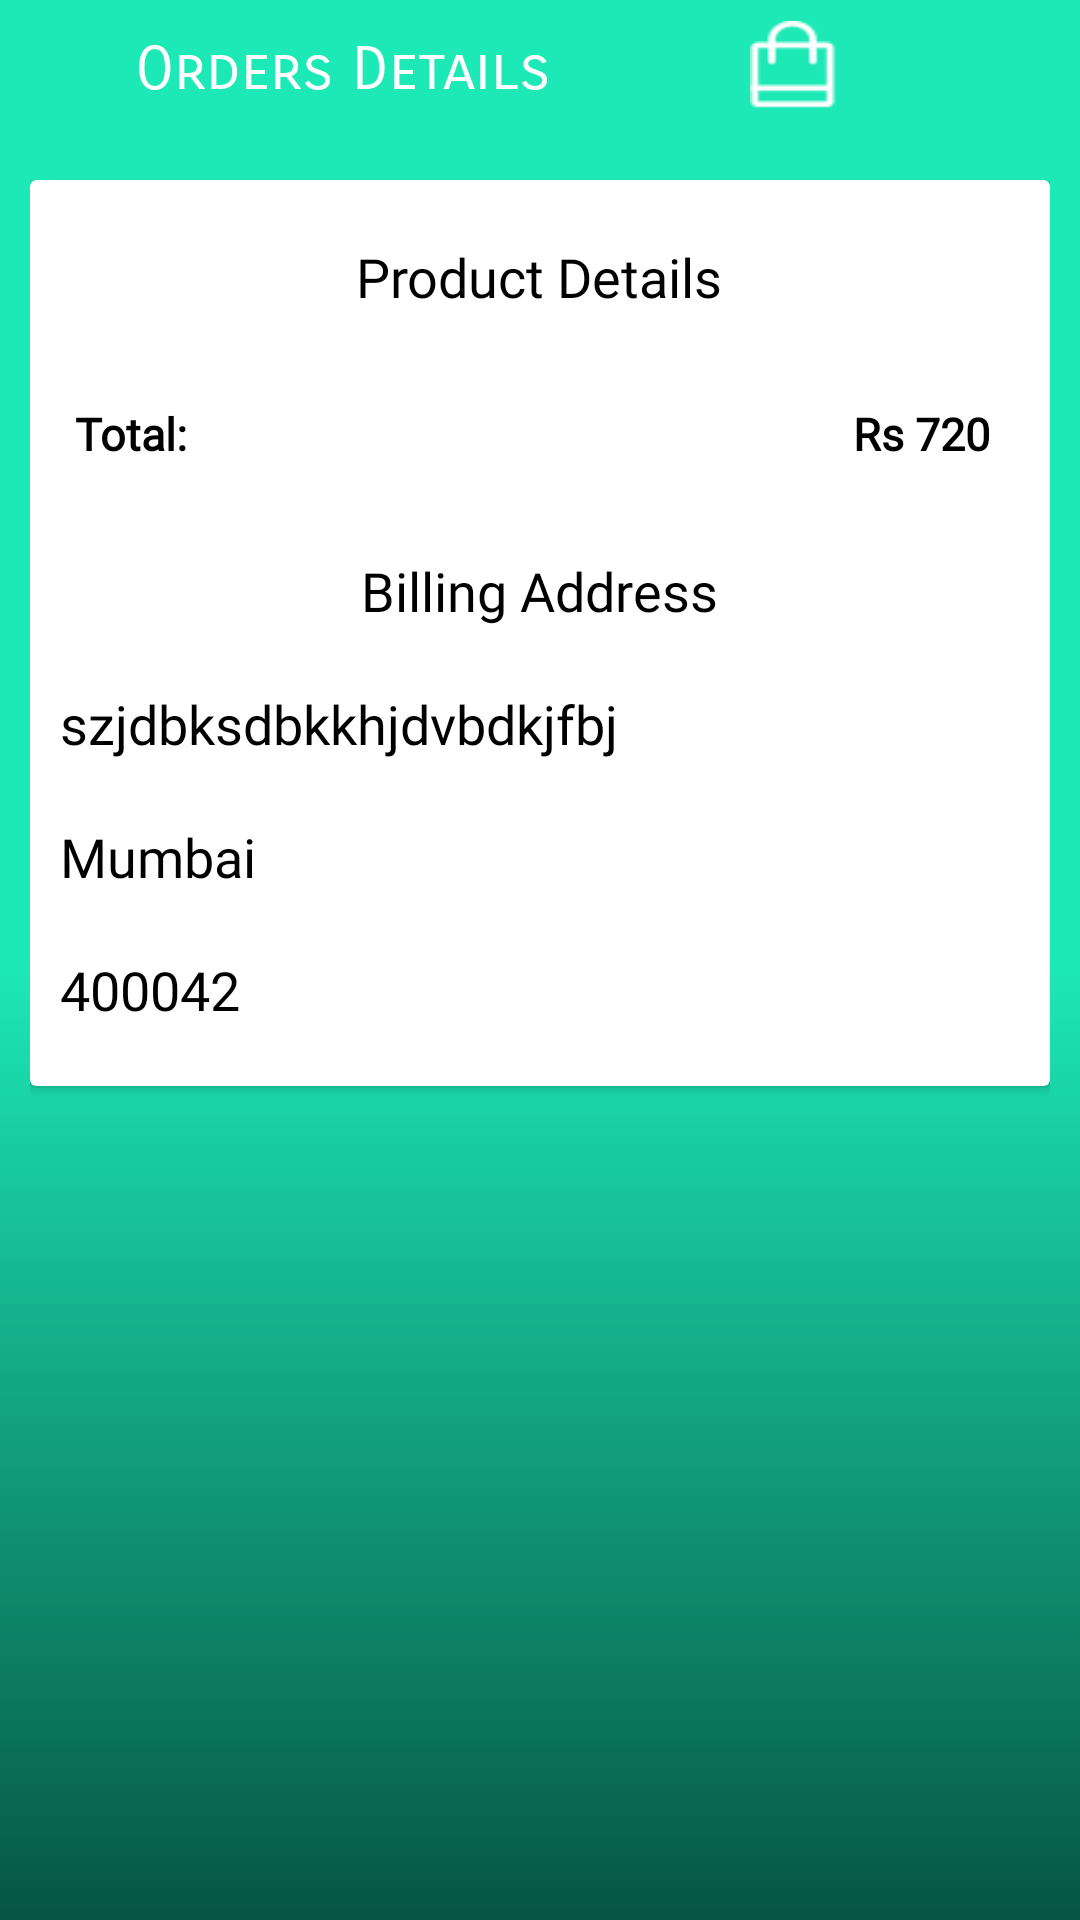

Locate icon controls on the screen. Image size 1080w x 1920h, boxes as [x1, y1, x2, y2].
storeicon: [750, 21, 836, 108]
